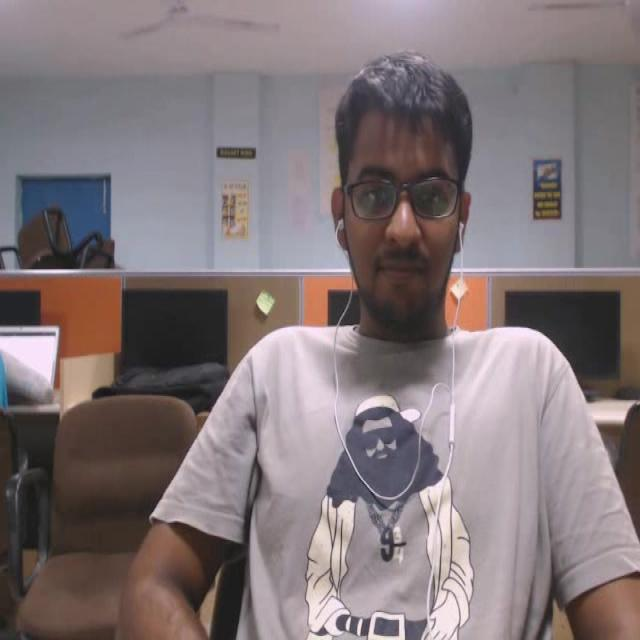Engaged: (311, 21, 514, 396)
